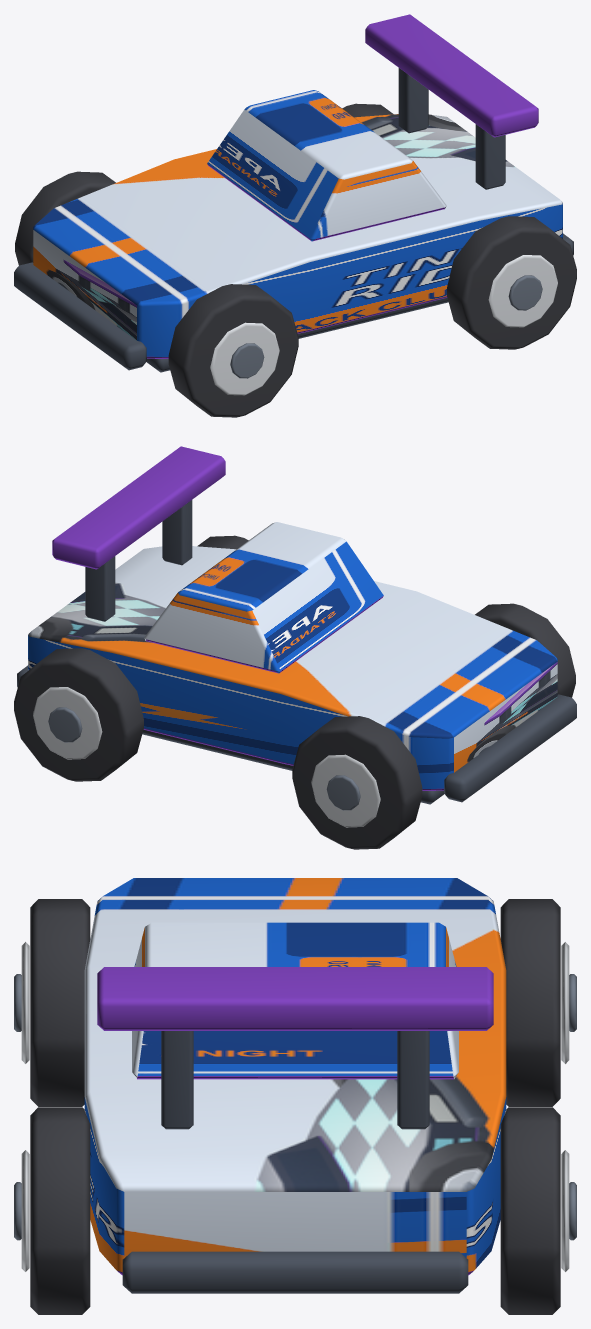
3 renders of one model, top to bottom at view 1: azimuth 30°, elevation 25°; view 2: azimuth 150°, elevation 25°; view 3: azimuth 270°, elevation 25°, orthographic. The views are drawn at different scales.
Parts seen in each view (by area): view 1: TC-05_connected_shell, TC-05_cabin, Tire, Tire.002, rear airfoil, front bumper, Rim, Rim.002, Tire.001, wing support, wing support.001, underbody (+3 smaller); view 2: TC-05_connected_shell, TC-05_cabin, Tire.001, Tire.003, rear airfoil, front bumper, Rim.001, Rim.003, Tire, wing support.001, wing support, underbody (+3 smaller); view 3: TC-05_connected_shell, TC-05_cabin, rear airfoil, rear bumper, Tire.002, Tire.003, Tire, Tire.001, wing support, wing support.001, Rim.002, Rim.003 (+2 smaller).
Part boxes in pixels (box(x1,y1,x2,y2)): TC-05_connected_shell: box(33, 114, 562, 358); TC-05_cabin: box(207, 90, 446, 241); Tire: box(168, 284, 298, 417); Tire.002: box(447, 216, 576, 349); rear airfoil: box(365, 14, 538, 137); front bumper: box(14, 262, 146, 370); Rim: box(210, 322, 279, 395); Rim.002: box(488, 255, 557, 327); Tire.001: box(15, 171, 115, 265); wing support: box(475, 124, 505, 189); wing support.001: box(398, 68, 428, 133); underbody: box(146, 298, 448, 372); TC-05_connected_shell: box(28, 546, 557, 790); TC-05_cabin: box(144, 522, 383, 673); Tire.001: box(292, 716, 422, 849); Tire.003: box(14, 648, 143, 781); rear airfoil: box(52, 446, 225, 569); front bumper: box(444, 694, 576, 802); Rim.001: box(311, 754, 380, 827); Rim.003: box(33, 687, 102, 759); Tire: box(475, 603, 575, 697); wing support.001: box(85, 556, 115, 621); wing support: box(162, 500, 192, 565); underbody: box(142, 730, 444, 804); TC-05_connected_shell: box(84, 878, 506, 1275); TC-05_cabin: box(132, 922, 458, 1079); rear airfoil: box(97, 967, 493, 1030); rear bumper: box(122, 1251, 468, 1293); Tire.002: box(30, 1107, 90, 1314); Tire.003: box(500, 1107, 560, 1314); Tire: box(30, 899, 90, 1106); Tire.001: box(500, 899, 560, 1106); wing support: box(161, 1031, 193, 1129); wing support.001: box(397, 1031, 429, 1129); Rim.002: box(21, 1150, 29, 1271); Rim.003: box(561, 1150, 569, 1271).
Size of the model in its own units: 345 by 159 by 243.
